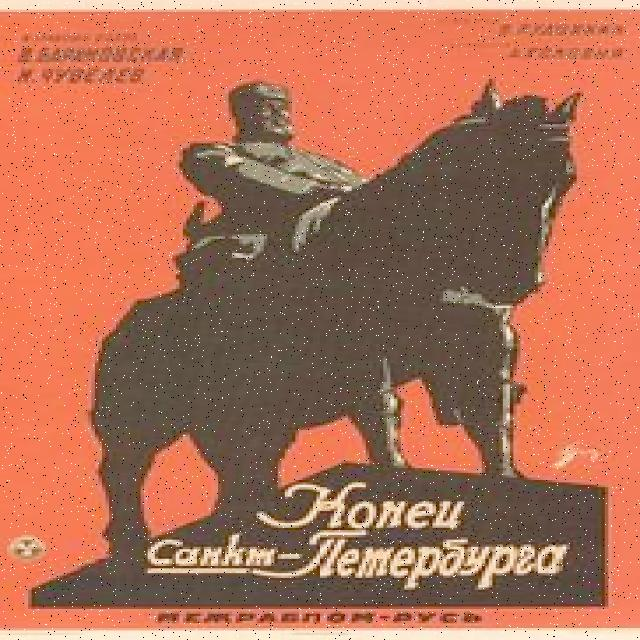movie-judul: (114, 477, 593, 597)
picture: (0, 12, 640, 629)
